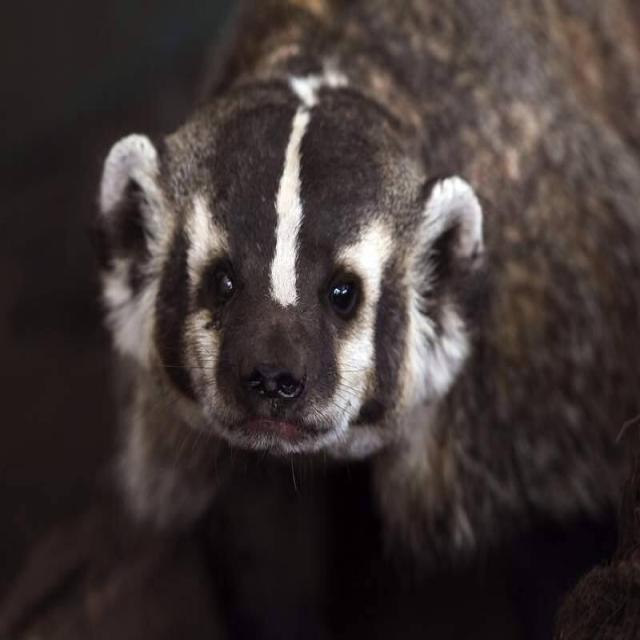Badger: (79, 52, 526, 514)
